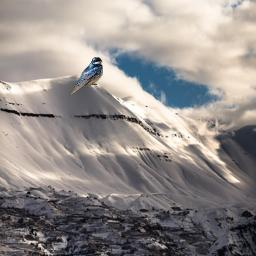Swallow: (69, 56, 103, 96)
